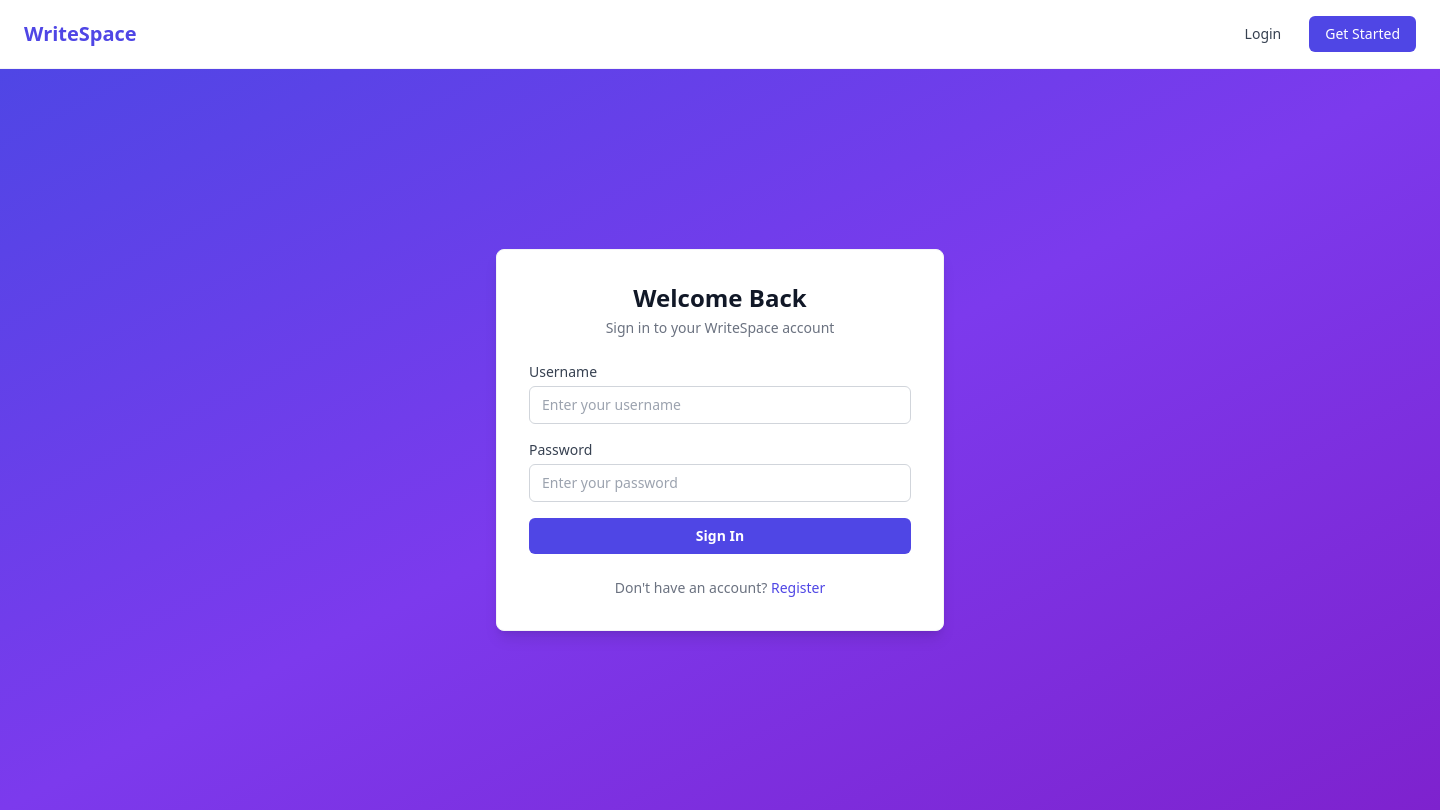
Test: LoginPage › validation errors › shows error when username is empty
Step 1. Type "somepassword" into the password field labelled "Password" → (720, 482), box [529,464,911,502]
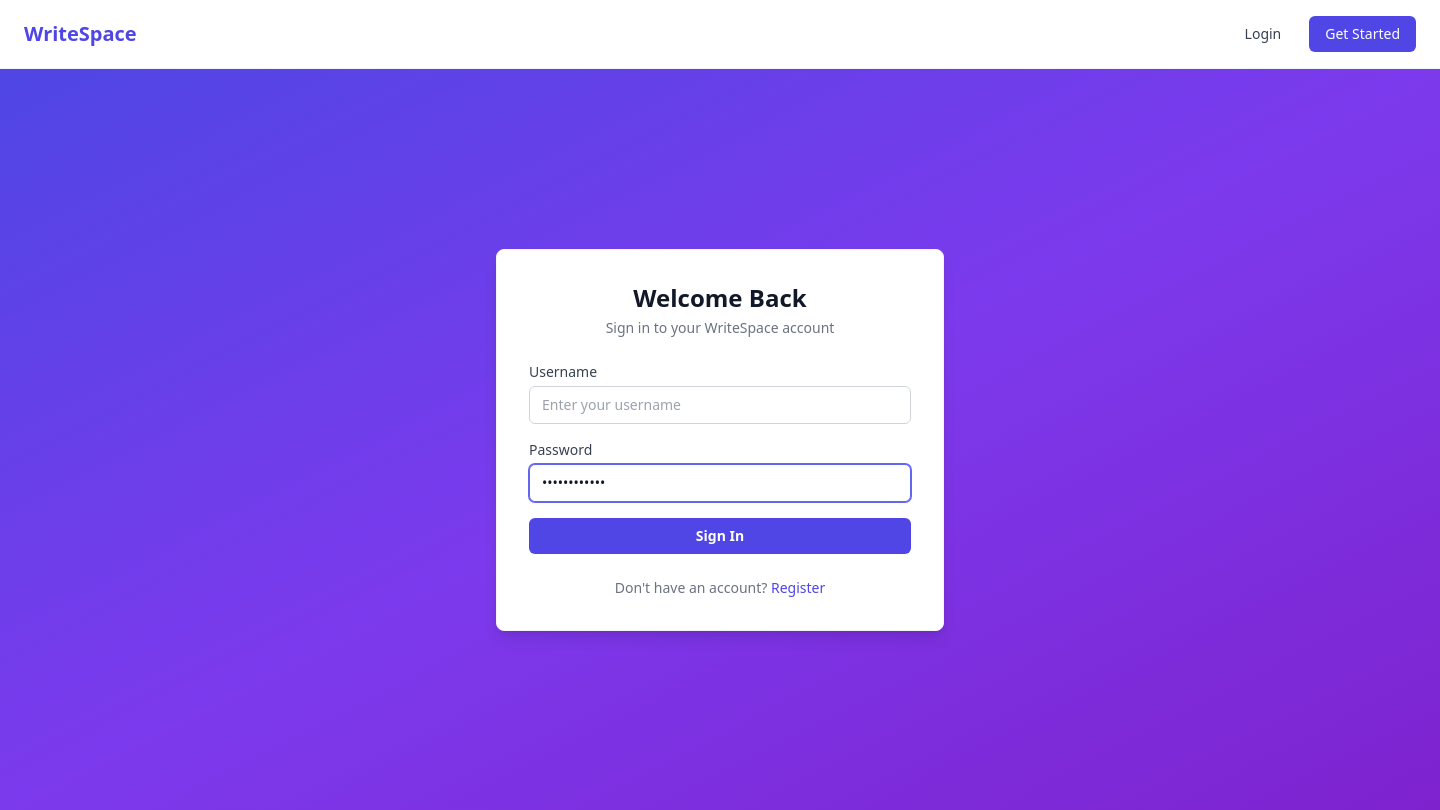
Step 2. Click the button "Sign In" → (720, 536), box [529,518,911,554]
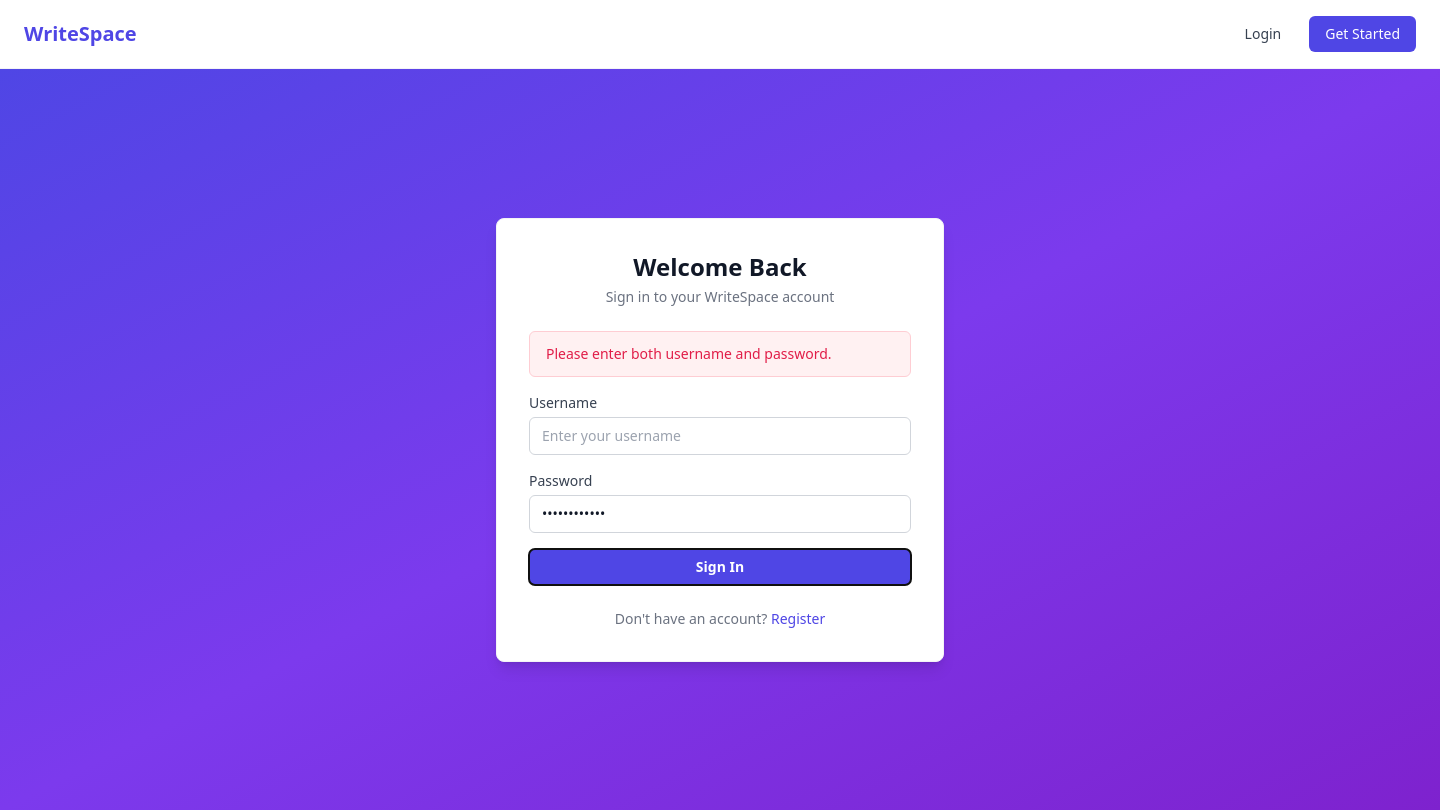
Check: the text "Please enter both username and password." is shown, box [546,344,832,362]
